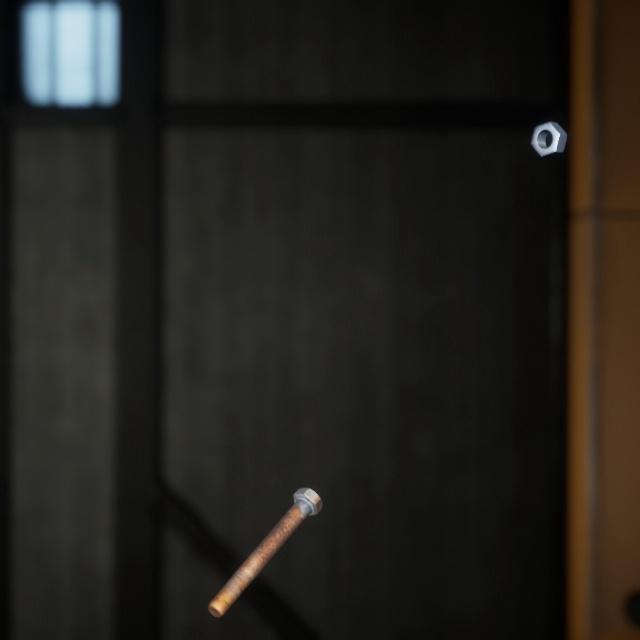bolt: (203, 460, 326, 598)
nut: (526, 104, 571, 149)
